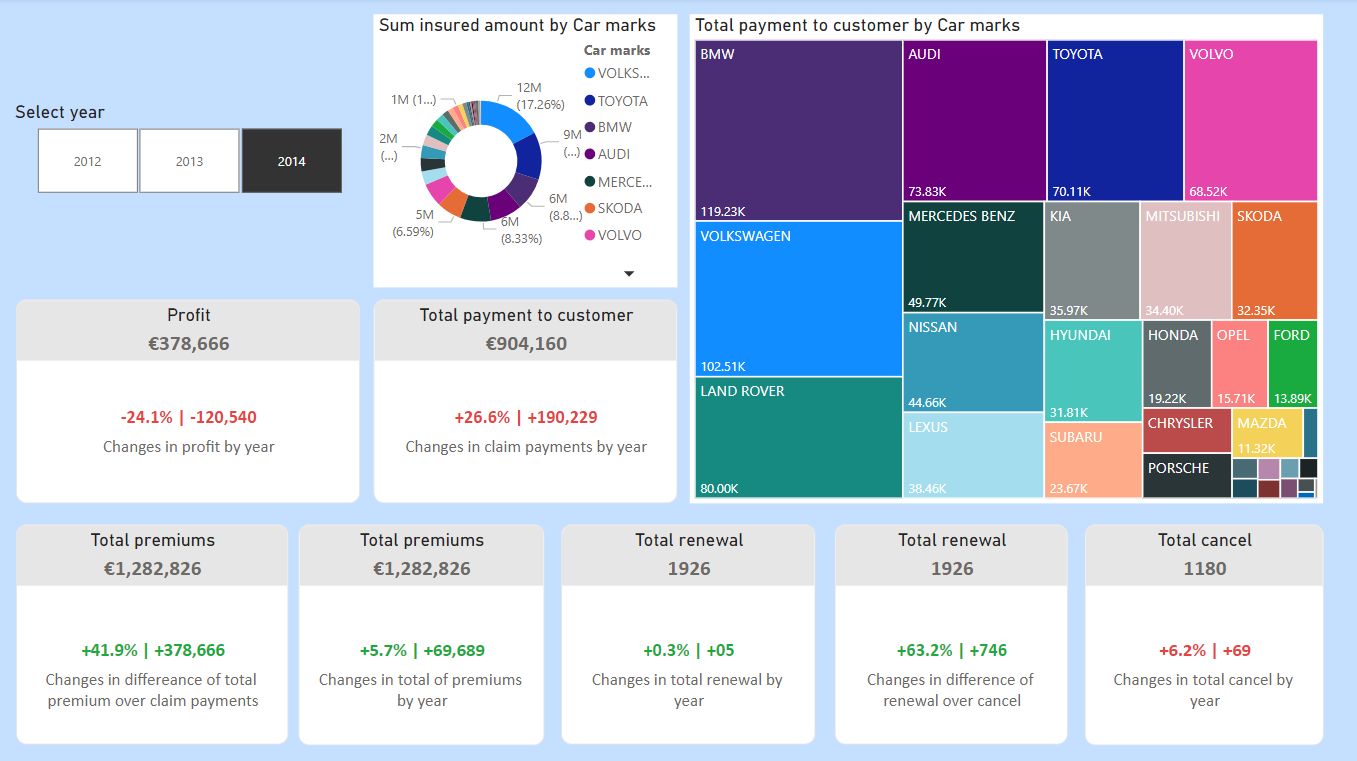

The page's visual inventory and layout, read from the dashboard file:
{"tool":"powerbi","page":{"name":"Portfolio","canvas":[1280,720],"ordinal":0},"visuals":[{"type":"card","title":"Total premiums","fields":{"Values":["calculations.KPI Total Premium vs Incured amount"]},"box":[18.8,493.8,255,206.2],"z":0},{"type":"card","title":"Total payment to customer","fields":{"Values":["calculations.KPI Increase Incurred Amount ThisYear"]},"box":[353.8,282.5,285,191.2],"z":1000},{"type":"slicer","title":"Select year","fields":{"Values":["policies.year"]},"box":[12.5,96.2,335,93.8],"z":2000},{"type":"card","title":"Total premiums","fields":{"Values":["calculations.KPI Increase Premium ThisYear"]},"box":[283.8,493.8,230,207.5],"z":3000},{"type":"card","title":"Profit","fields":{"Values":["calculations.KPI Increase Profit ThisYear"]},"box":[18.8,282.5,322.5,191.2],"z":4000},{"type":"treemap","fields":{"Group":["policies.Mark"],"Values":["calculations.SumOfIncurrendAmount"]},"box":[650,15,593.8,458.8],"z":5000},{"type":"card","title":"Total renewal","fields":{"Values":["calculations.KPI Renewal Versus Cancel"]},"box":[786.2,493.8,218.8,206.2],"z":6000},{"type":"card","title":"Total renewal","fields":{"Values":["calculations.KPI Increase Renewal ThisYear"]},"box":[530,493.8,238.8,206.2],"z":7000},{"type":"card","title":"Total cancel","fields":{"Values":["calculations.KPI Increase Cancel ThisYear"]},"box":[1020,493.8,223.8,207.5],"z":8000},{"type":"donutChart","fields":{"Y":["Sum(policies.suminsured)"],"Category":["policies.Mark"]},"box":[353.8,15,285,256.2],"z":9000}]}

Visuals, with their boxes in screenshot pixels (x1, y1, x2, y2), scaled from the page's 1280x720 canvas onto the 1357x761 screenshot:
"Total premiums" card: Rect(20, 522, 290, 740)
"Total payment to customer" card: Rect(375, 299, 677, 501)
"Select year" slicer: Rect(13, 102, 368, 201)
"Total premiums" card: Rect(301, 522, 545, 741)
"Profit" card: Rect(20, 299, 362, 501)
treemap - policies.Mark x calculations.SumOfIncurrendAmount: Rect(689, 16, 1319, 501)
"Total renewal" card: Rect(833, 522, 1065, 740)
"Total renewal" card: Rect(562, 522, 815, 740)
"Total cancel" card: Rect(1081, 522, 1319, 741)
donutChart - Sum(policies.suminsured) x policies.Mark: Rect(375, 16, 677, 287)
